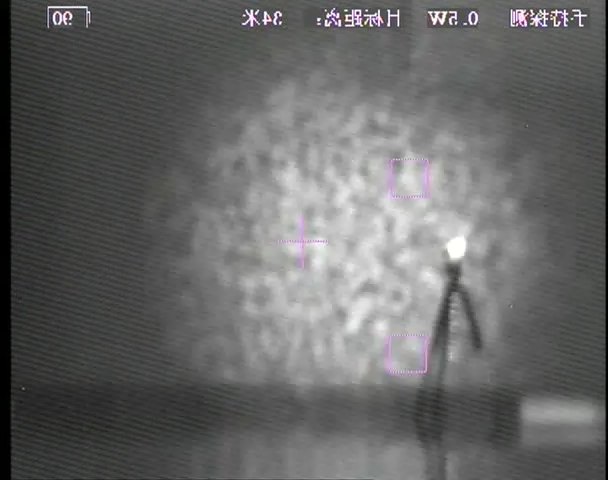my: (444, 234, 468, 262)
